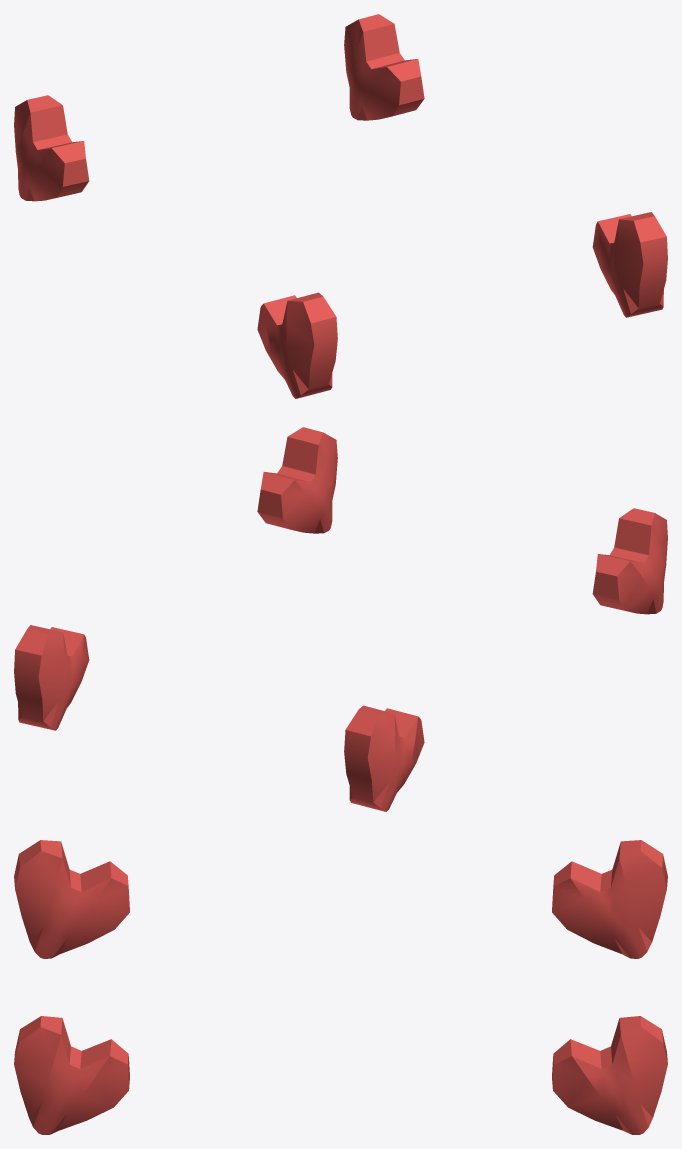
File: healanimationn 1.fbx
3 renders of one model, top to bottom at view 1: azimuth 30°, elevation 25°; view 2: azimuth 150°, elevation 25°; view 3: azimuth 270°, elevation 25°, orthographic. The views are drawn at different scales.
Parts seen in each view (by area): view 1: HP.005; view 2: HP.005; view 3: HP.005.
Part boxes in pixels (x1,y1,x2,y2): HP.005: [14, 14, 667, 398]; HP.005: [14, 427, 667, 811]; HP.005: [14, 840, 667, 1134].
Size of the model in its own units: 139 by 33.79 by 191.
